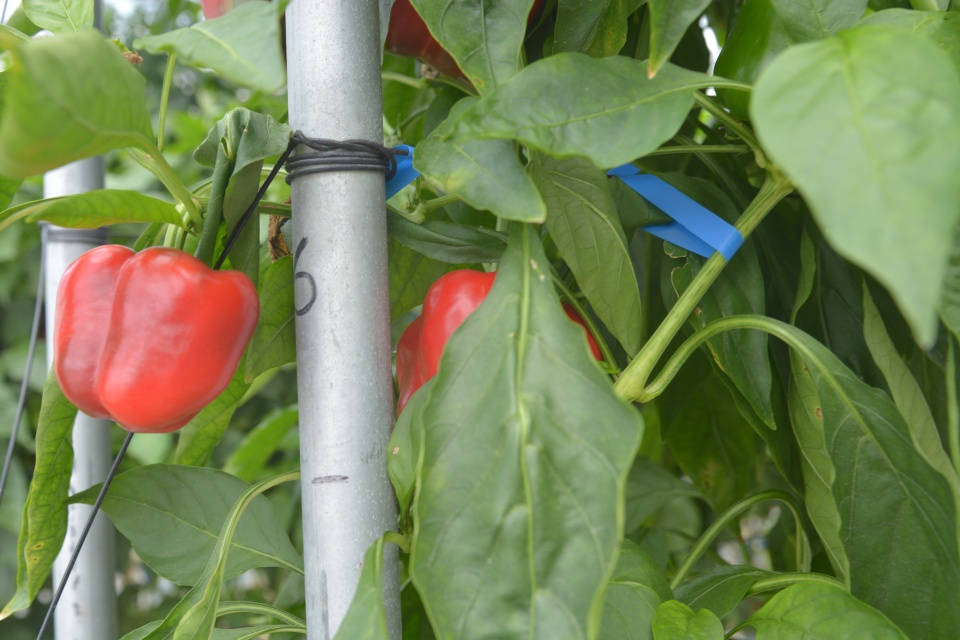fruit: (48, 236, 263, 437), (394, 266, 604, 419), (386, 0, 548, 77)
